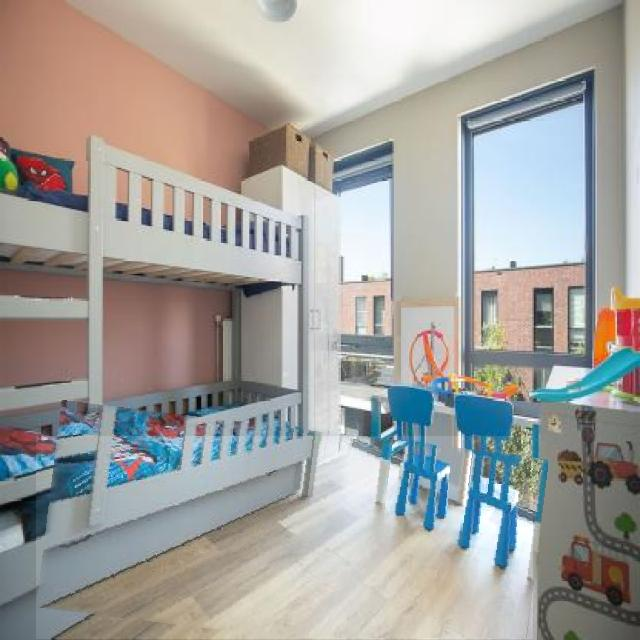floor: (36, 437, 533, 639)
